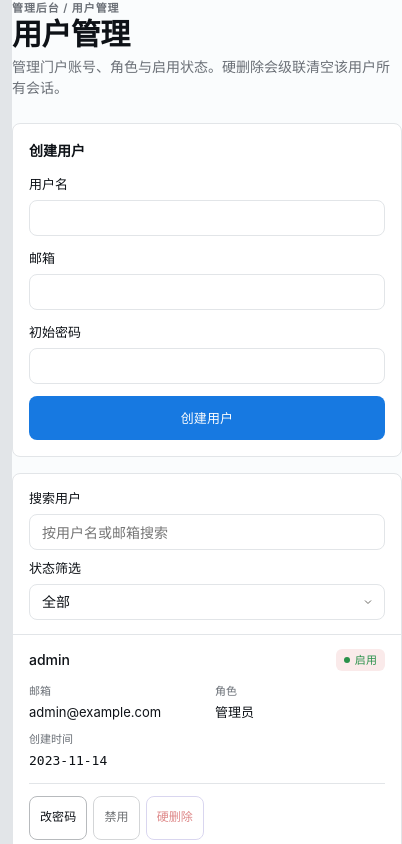
Scenario: UsersAdminPage › 创建用户 — 填表单提交后调 POST /admin/users 并刷新列表
Type "newuser" into the field labelled "用户名" at {"x": 207, "y": 218}, box [29, 200, 385, 236]
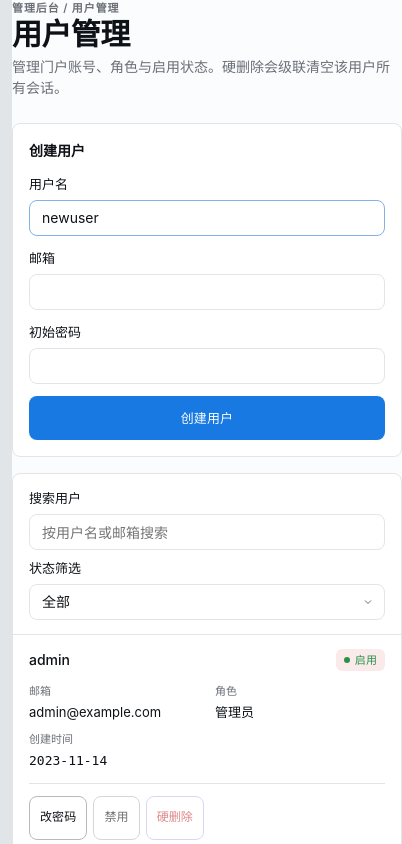
Type "new@example.com" into the field labelled "邮箱" at {"x": 207, "y": 292}, box [29, 274, 385, 310]
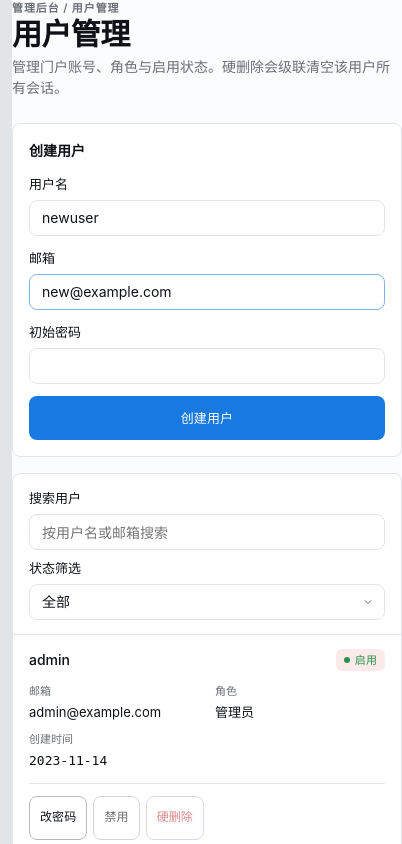
Type "pass123" into the password field labelled "初始密码" at {"x": 207, "y": 366}, box [29, 348, 385, 384]
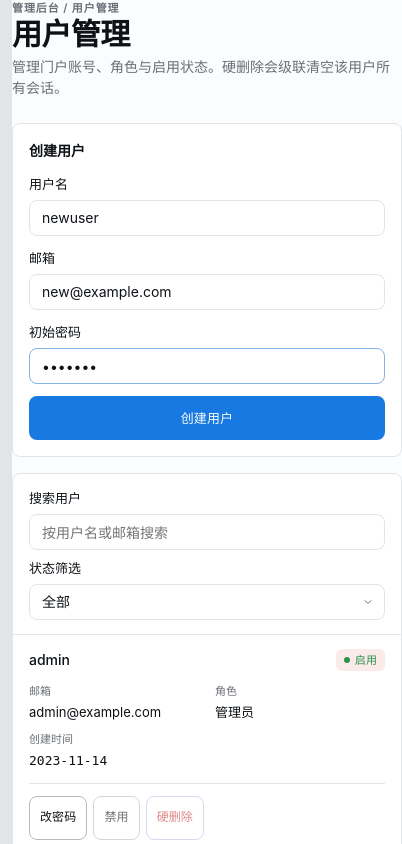
Click the button "创建用户" at {"x": 207, "y": 418}, box [29, 396, 385, 440]
(page scrolled)
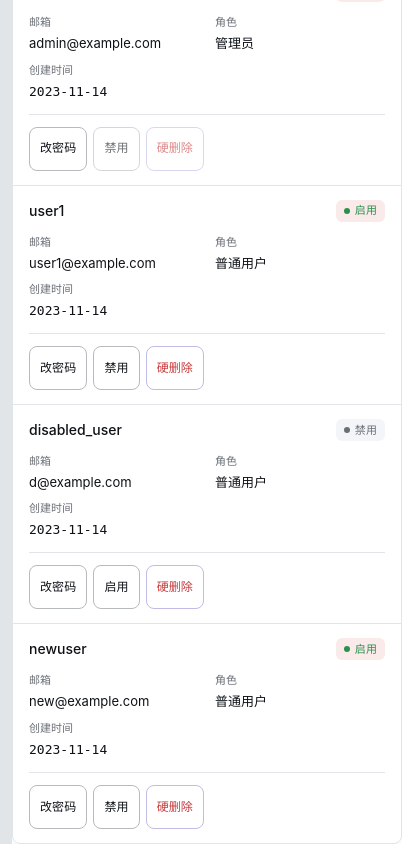
Expected: the list item with test id "mobile-user-u_new" is shown, [13, 624, 401, 843]
